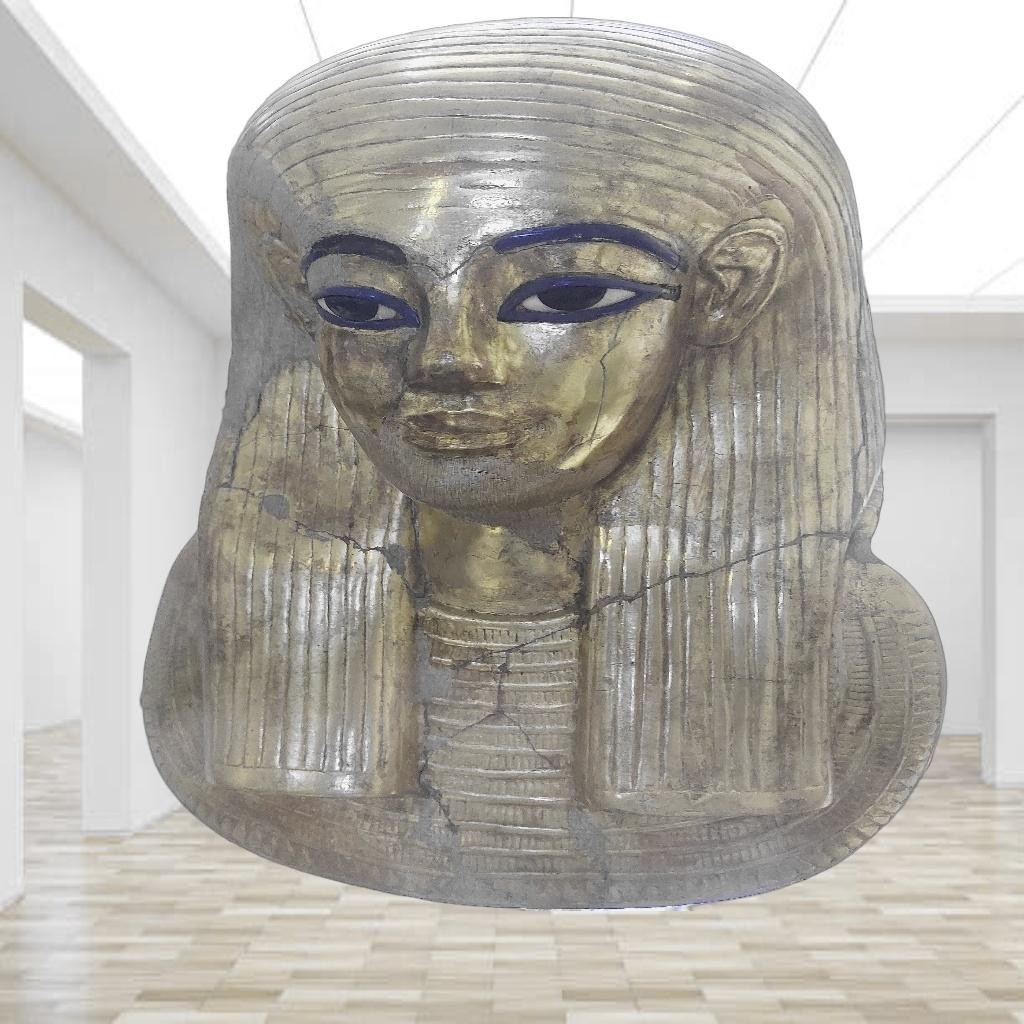Mask of Yuya: (139, 17, 949, 911)
